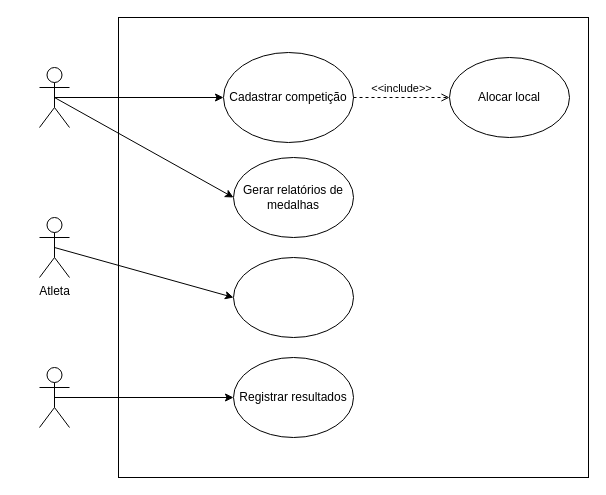
This 606x495 diagram has some shape labels left out. The centre of each missing label's shape, as x and y in pixels:
"Administrador" belongs at (x=54, y=97).
"Inscrever em competição" belongs at (x=293, y=297).
"Juiz" belongs at (x=54, y=397).
